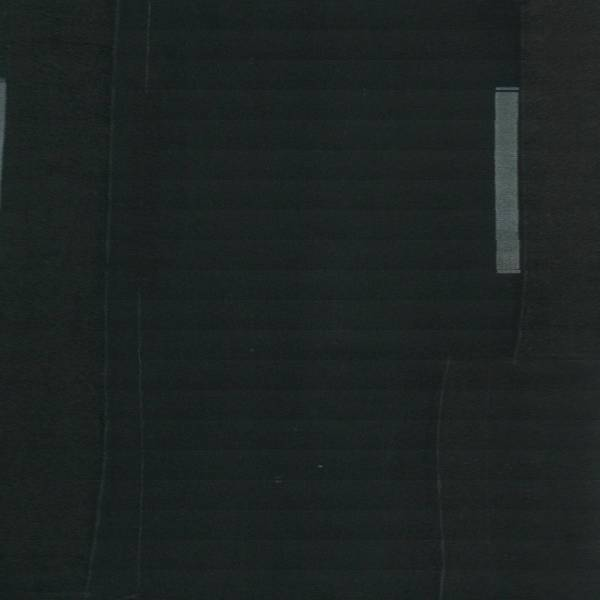road_damage: (92, 10, 121, 573), (432, 358, 454, 600)
